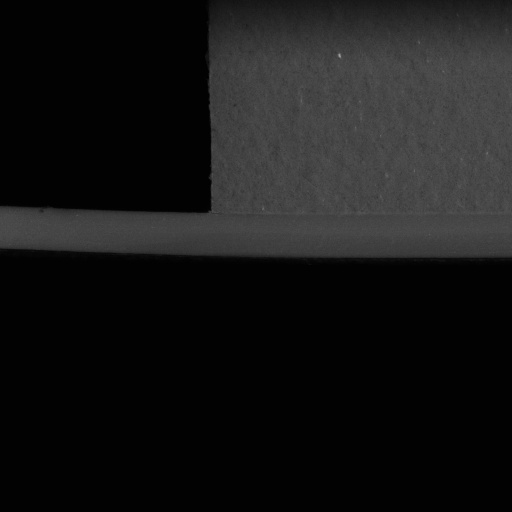changdai: (0, 205, 210, 258)
